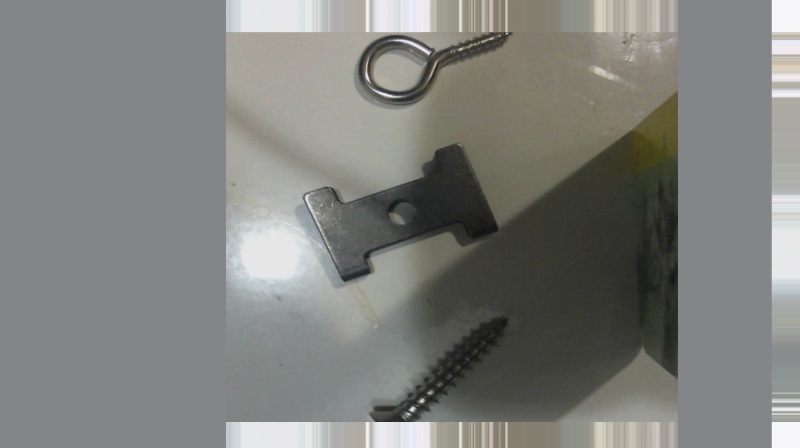O001: (355, 23, 519, 108)
O002: (301, 140, 502, 287)
S001: (363, 309, 514, 447)
